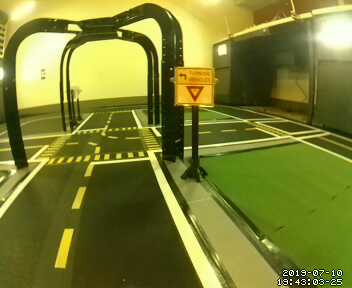Turn Yield: (174, 66, 217, 110)
